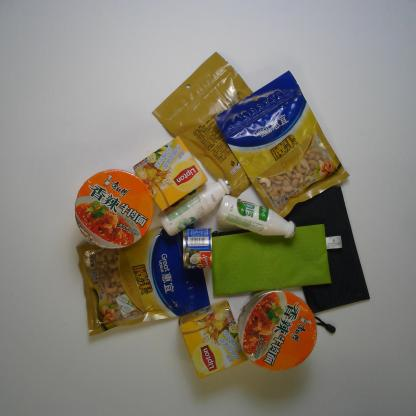Canned Food: (181, 225, 213, 273)
Dried Fruit: (213, 68, 352, 218), (152, 49, 260, 199), (75, 224, 212, 337)
Instant Drink: (132, 134, 209, 212), (179, 298, 249, 380)
Instant Noodles: (237, 288, 318, 372), (73, 167, 154, 250)
Milk: (156, 176, 233, 238), (216, 194, 298, 240)
Stationery: (283, 184, 372, 336), (209, 222, 334, 301)
